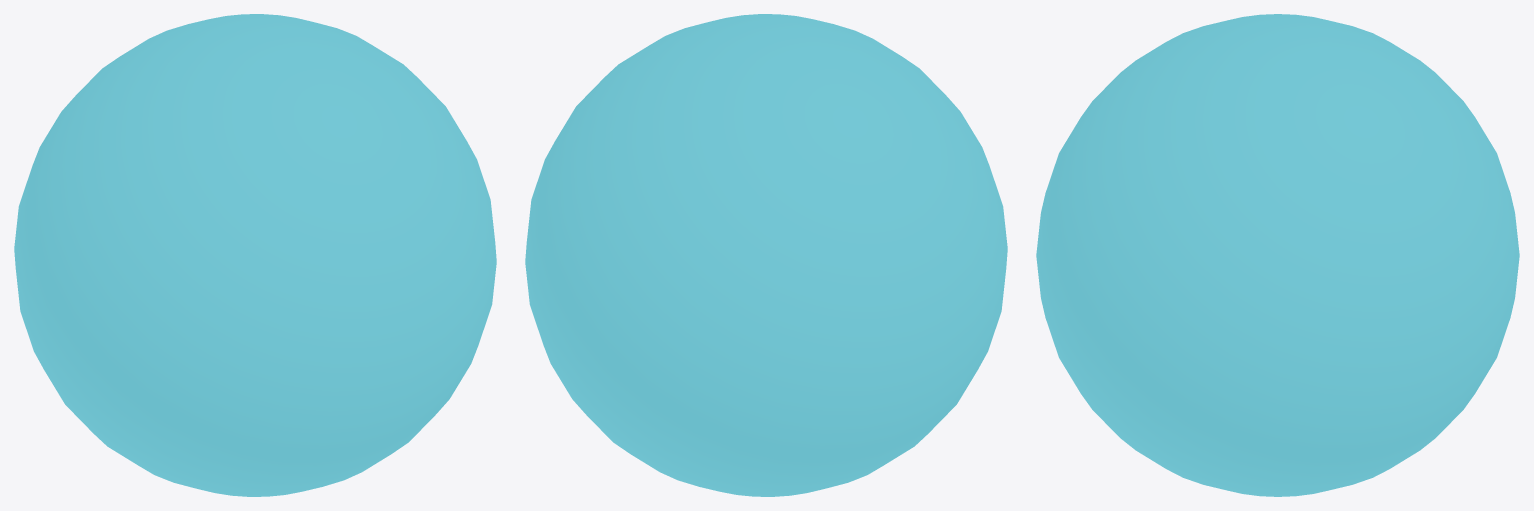
The model's file is ball3d.glb.
3 renders of one model, left to right at view 1: azimuth 30°, elevation 25°; view 2: azimuth 150°, elevation 25°; view 3: azimuth 270°, elevation 25°, orthographic.
Parts seen in each view (by area): view 1: Sphere; view 2: Sphere; view 3: Sphere.
Part boxes in pixels (x1=…): Sphere: x1=14, y1=14, x2=496, y2=496; Sphere: x1=525, y1=14, x2=1007, y2=496; Sphere: x1=1036, y1=14, x2=1519, y2=496.
Size of the model in its own units: 6.42 by 6.42 by 6.42.
